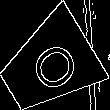O_SW: (18, 34, 79, 97)
